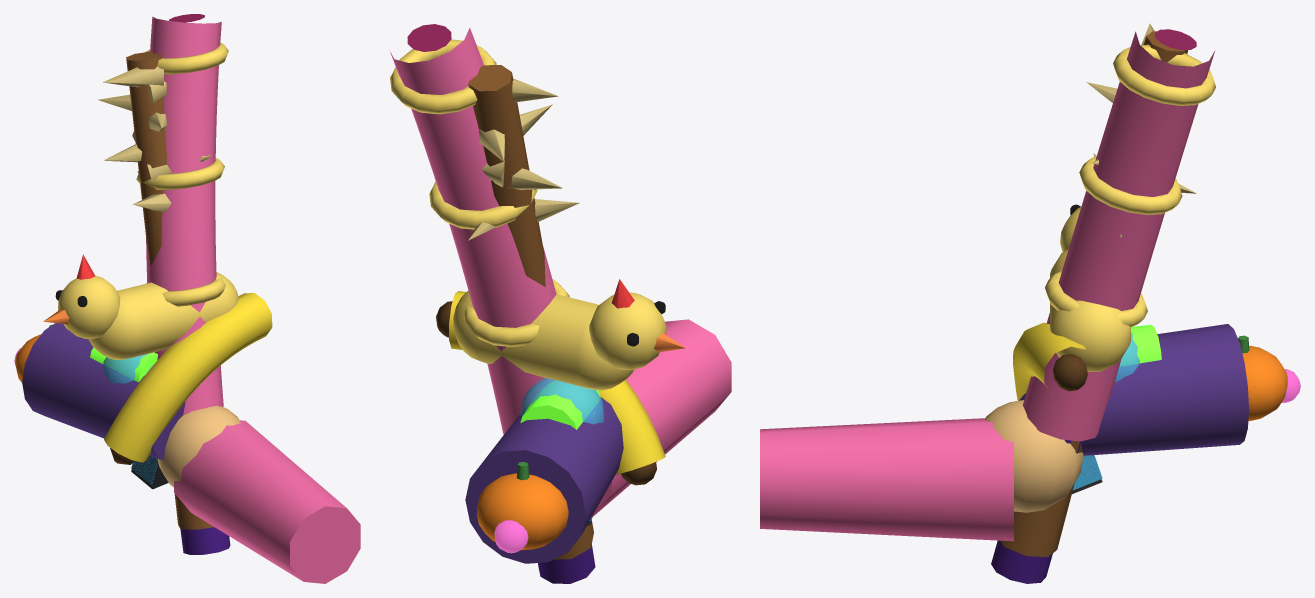
File: hand.glb
The picture shows the model from 3 angles, left to right: view 1: azimuth 30°, elevation 25°; view 2: azimuth 150°, elevation 25°; view 3: azimuth 270°, elevation 25°; orthographic projection. The views are drawn at different scales.
Visible parts, largest first — view 1: noodleBat, sleeve, boomerangBanana, chickenHammer, pumpkinLauncher, spikyStick, fist, waterBlaster, slimeSlinger, snowballCannon; view 2: noodleBat, pumpkinLauncher, chickenHammer, spikyStick, sleeve, boomerangBanana, slimeSlinger, waterBlaster, starLaser; view 3: noodleBat, sleeve, pumpkinLauncher, fist, chickenHammer, spikyStick, boomerangBanana, slimeSlinger, waterBlaster.
Boxes of the visible parts, box(x1,y1,x2,y2) form: noodleBat: box(136, 14, 230, 554); sleeve: box(174, 420, 360, 583); boomerangBanana: box(104, 293, 272, 464); chickenHammer: box(43, 254, 238, 360); pumpkinLauncher: box(15, 323, 185, 460); spikyStick: box(97, 51, 213, 529); fist: box(157, 405, 240, 487); waterBlaster: box(103, 354, 158, 485); slimeSlinger: box(90, 347, 157, 382); snowballCannon: box(131, 456, 168, 489); noodleBat: box(389, 24, 595, 583); pumpkinLauncher: box(465, 397, 623, 563); chickenHammer: box(453, 279, 685, 390); spikyStick: box(468, 65, 593, 559); sleeve: box(592, 319, 731, 516); boomerangBanana: box(436, 291, 665, 485); slimeSlinger: box(520, 381, 600, 429); waterBlaster: box(520, 378, 604, 520); starLaser: box(494, 413, 594, 553); noodleBat: box(991, 29, 1215, 583); sleeve: box(760, 418, 1013, 541); pumpkinLauncher: box(1019, 324, 1287, 455); fist: box(985, 400, 1083, 512); chickenHammer: box(1050, 204, 1130, 371); spikyStick: box(1000, 23, 1196, 556); boomerangBanana: box(1013, 322, 1087, 400); slimeSlinger: box(1120, 325, 1161, 365); waterBlaster: box(1073, 332, 1139, 490).
Size of the model in its own units: 0.4616 by 1 by 0.8525.
